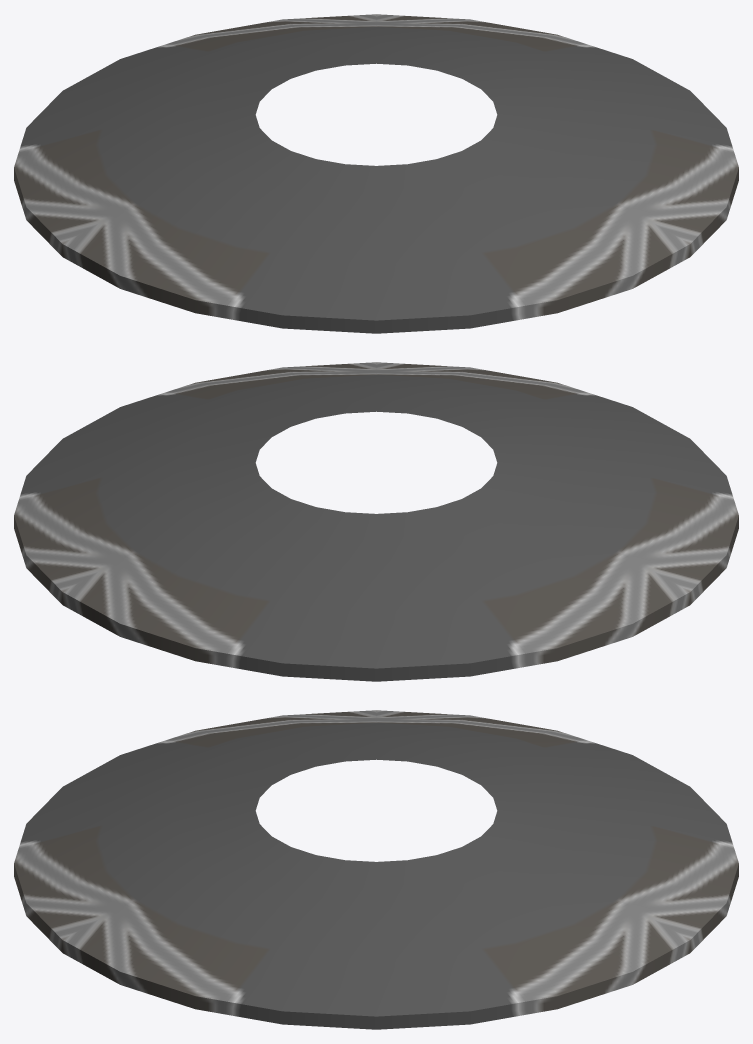
File: 1p5to0naked.obj
3 views of the same model, one above another, from view 1: azimuth 30°, elevation 25°; view 2: azimuth 150°, elevation 25°; view 3: azimuth 270°, elevation 25° (orthographic).
Visible parts, largest first — view 1: 1; view 2: 1; view 3: 1.
Boxes of the visible parts, x1,y1,x2,y2 form: 1: (14,14,738,333); 1: (14,362,738,681); 1: (14,710,738,1029).
Size of the model in its own units: 1.88 by 0.1875 by 1.88.
